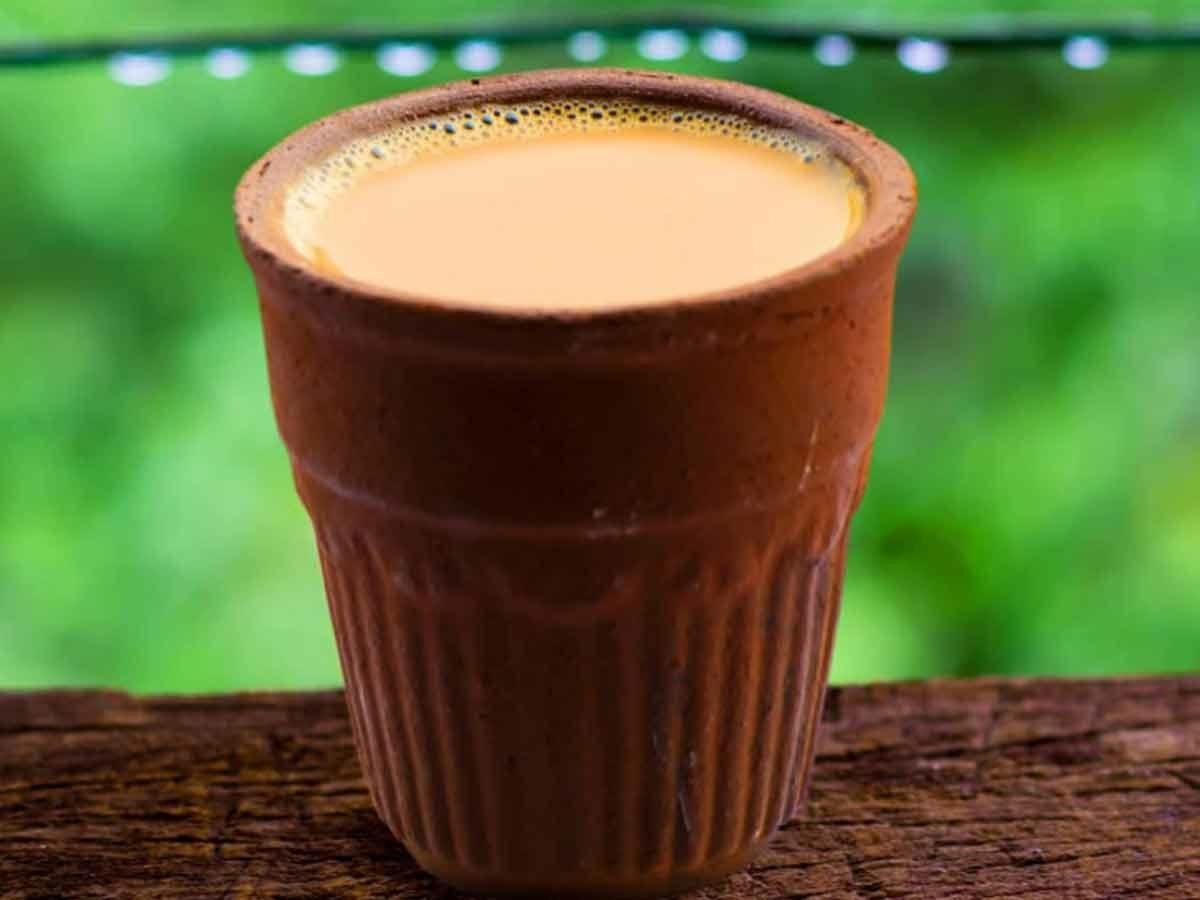Chai: (282, 101, 869, 305)
